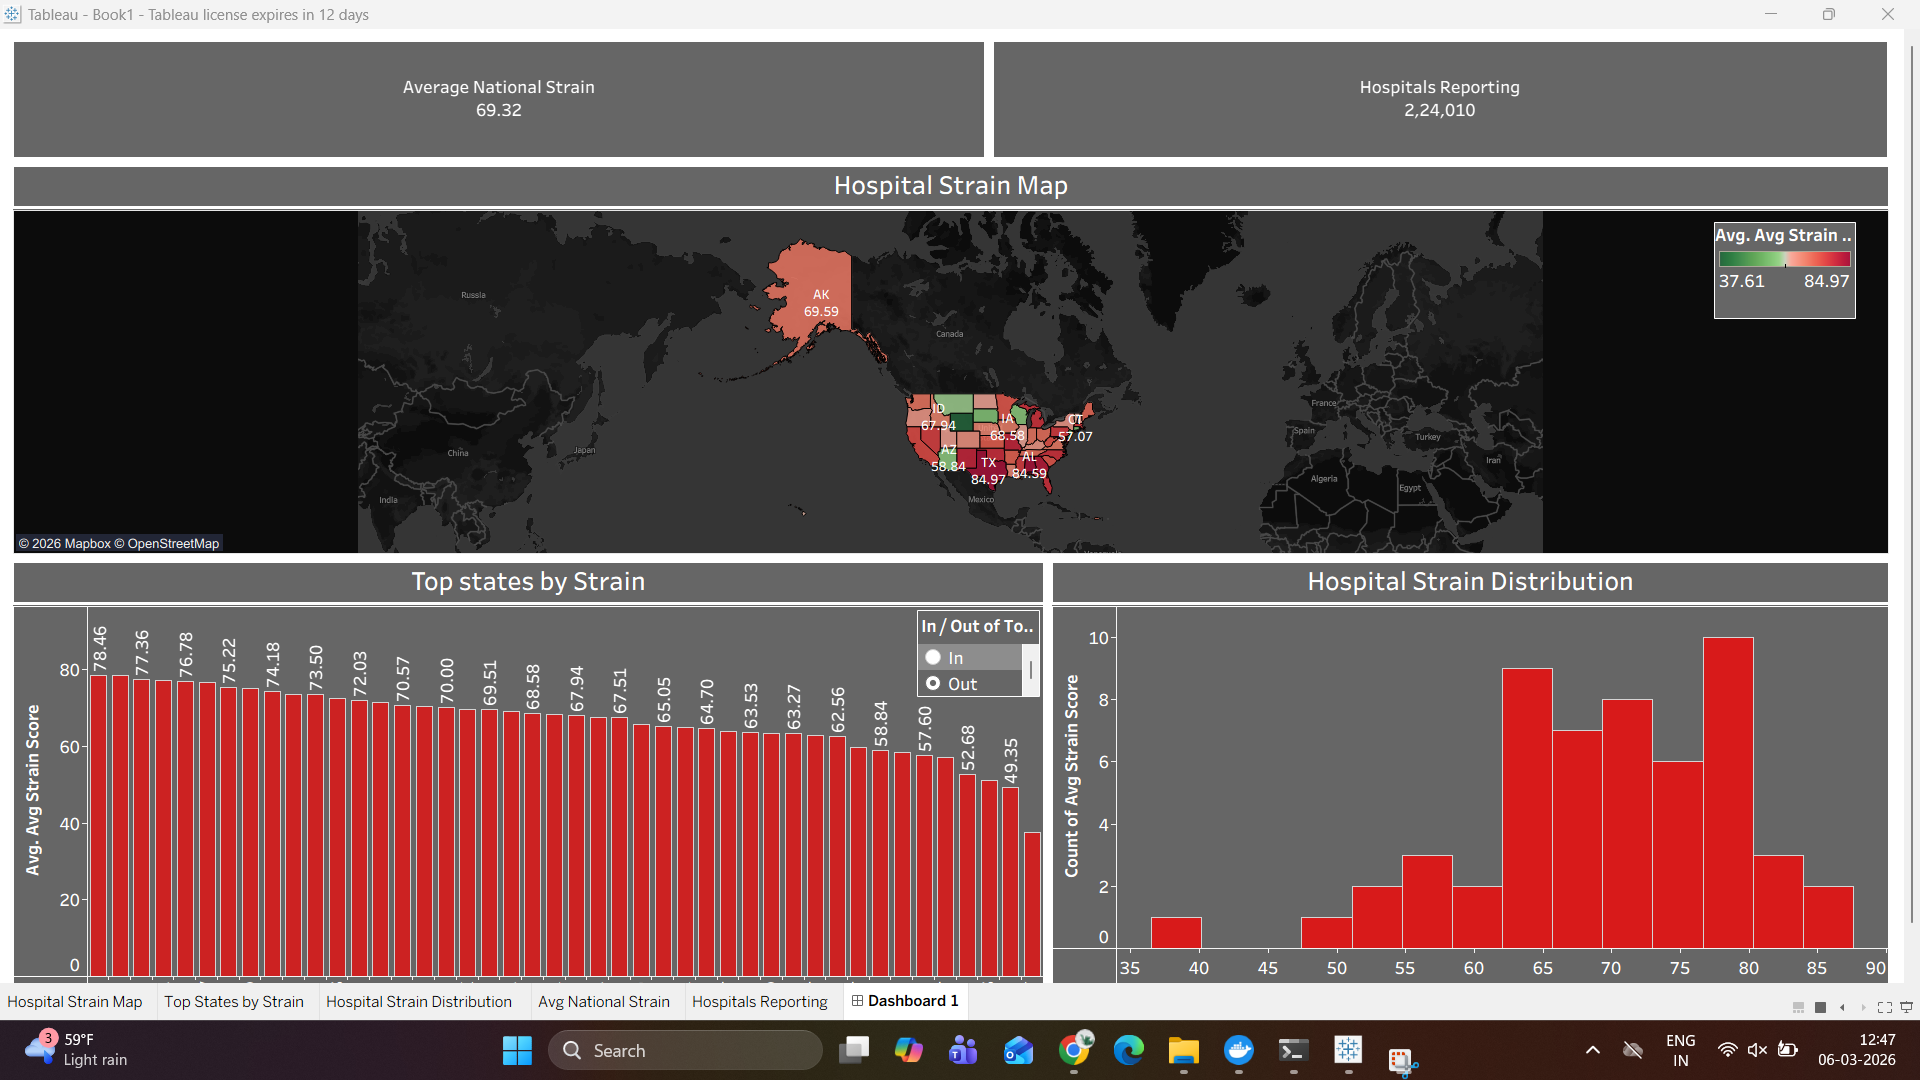

Layout of this report page (visuals, bound fields, positions):
{"tool":"tableau","page":{"name":"Dashboard 1","canvas":[1900,1000],"ordinal":0},"visuals":[{"type":"worksheet","title":"Avg National Strain","mark":"Automatic","box":[8,8,980,125]},{"type":"worksheet","title":"Hospitals Reporting","mark":"Automatic","box":[988,8,904,125]},{"type":"worksheet","title":"Hospital Strain Map","mark":"Automatic","box":[8,133,1884,396]},{"type":"legend","title":"Hospital Strain Map","param":"[federated.1g5rd2m0re31ma1brrf631ild7dh].[avg:avg_strain_score:qk]","box":[1713,193,142,97]},{"type":"worksheet","title":"Top States by Strain","mark":"Automatic","rows":["avg_strain_score"],"cols":["state"],"box":[8,529,1039,463]},{"type":"worksheet","title":"Hospital Strain Distribution","mark":"Automatic","rows":["avg_strain_score"],"cols":["Avg Strain Score (bin)"],"box":[1047,529,845,463]},{"type":"filter","title":"Top States by Strain","param":"[federated.1g5rd2m0re31ma1brrf631ild7dh].[io:Top 10 states:nk]","box":[916,581,123,87]}]}

Visuals, with their boxes in screenshot pixels (x1, y1, x2, y2):
"Avg National Strain" worksheet: 8/33/985/158
"Hospitals Reporting" worksheet: 985/33/1885/158
"Hospital Strain Map" worksheet: 8/158/1885/552
"Hospital Strain Map" legend: 1707/217/1849/314
"Top States by Strain" worksheet: 8/552/1043/1014
"Hospital Strain Distribution" worksheet: 1043/552/1885/1014
"Top States by Strain" filter: 913/604/1035/691
